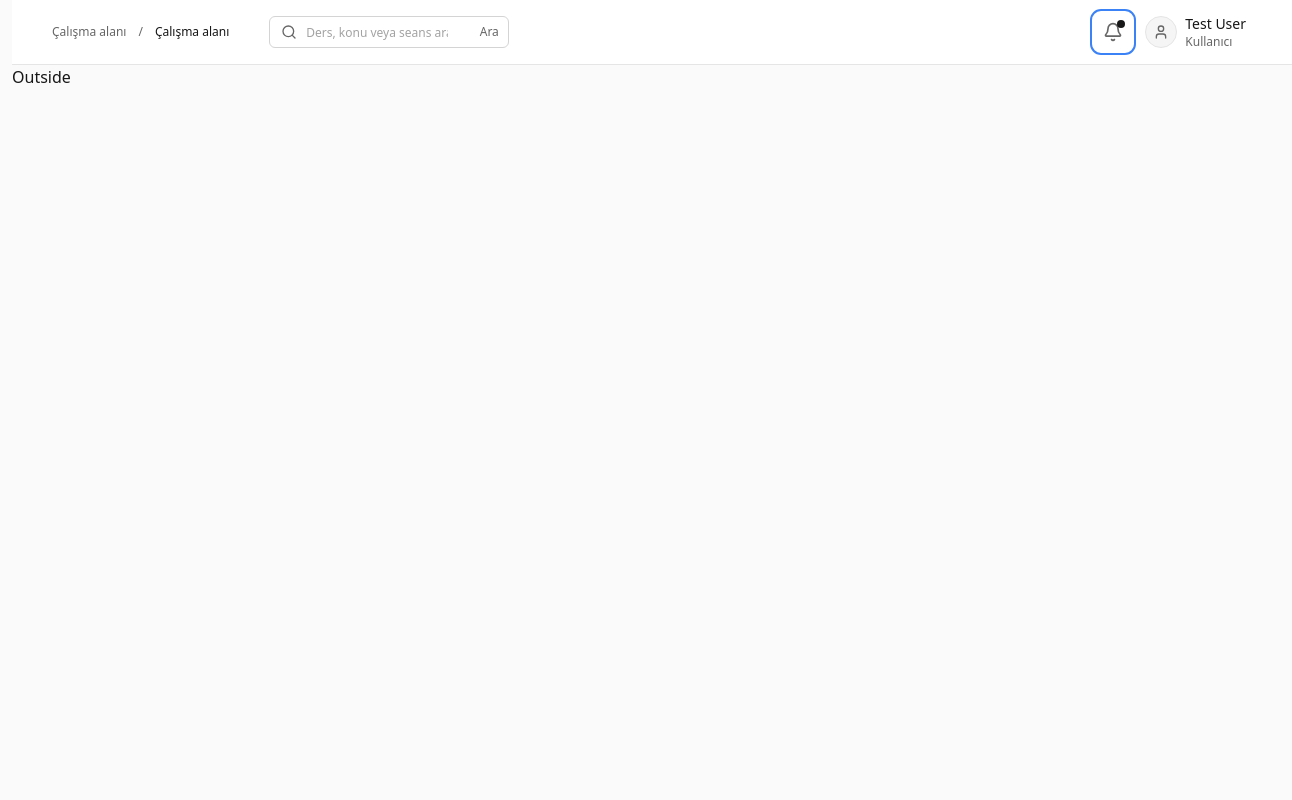
Test case: asks the server for the latest five, marks only those and preserves focus after the action disappears
Click the button named "Bildirimler, 5 okunmamış" at (1113, 32), box [1095,14,1131,50]
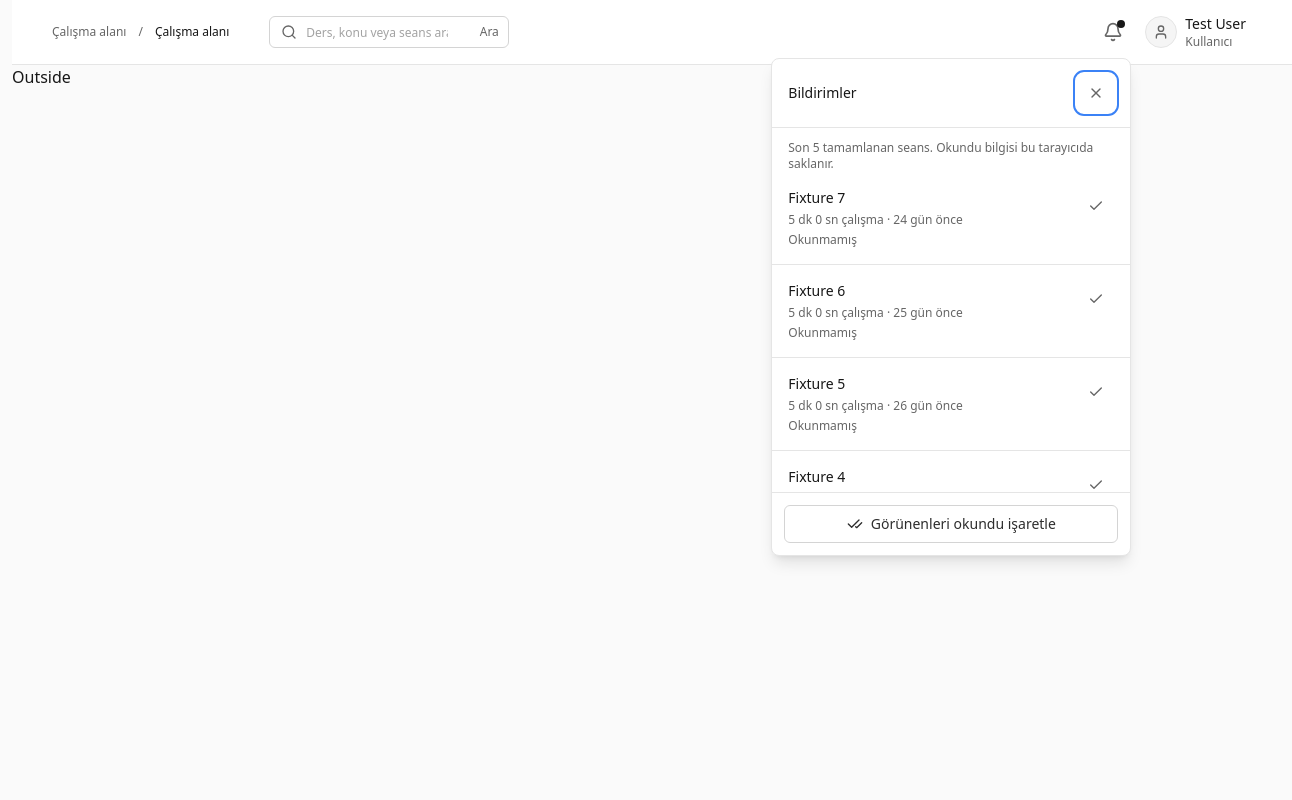
expect the text "Fixture 7" is shown: met, box [788,188,845,207]
Click the button "Görünenleri okundu işaretle" at (951, 524), box [784,505,1118,543]
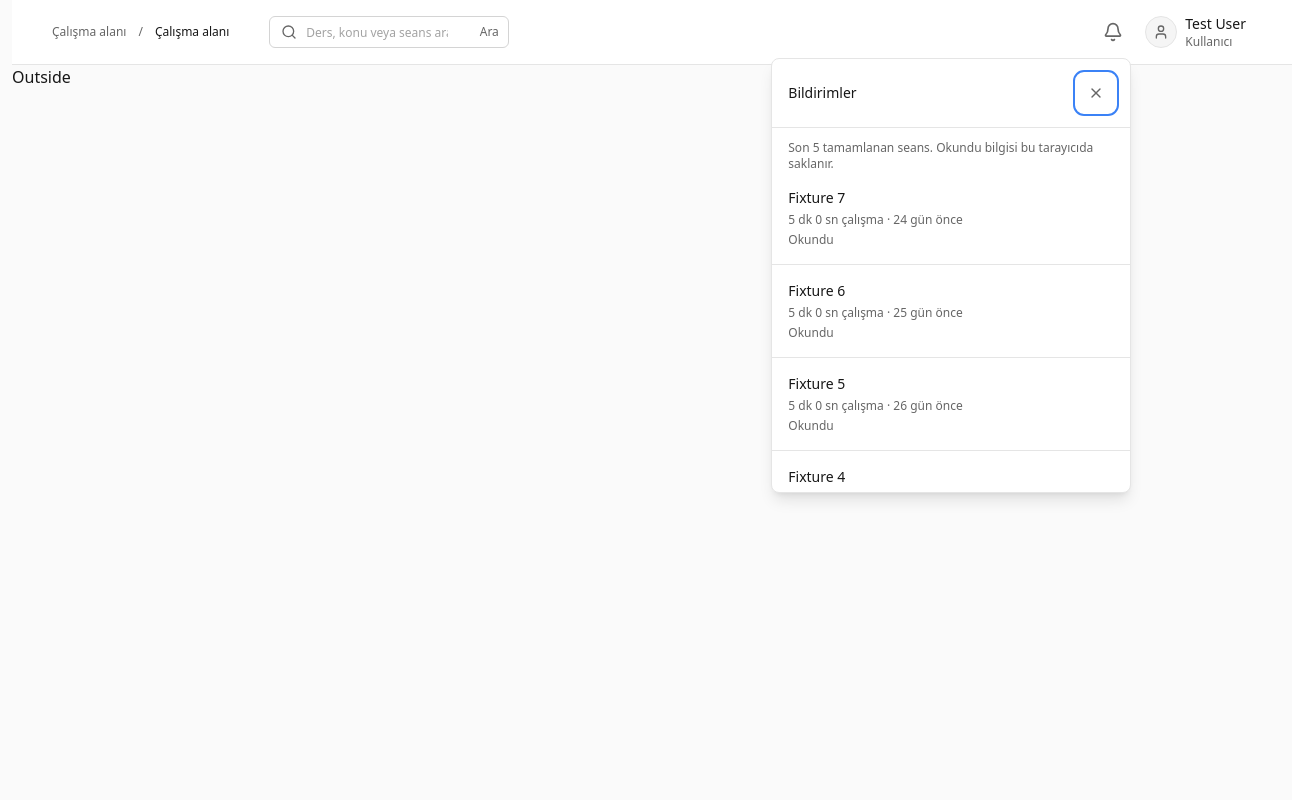
expect the button "Görünenleri okundu işaretle" is gone: met
